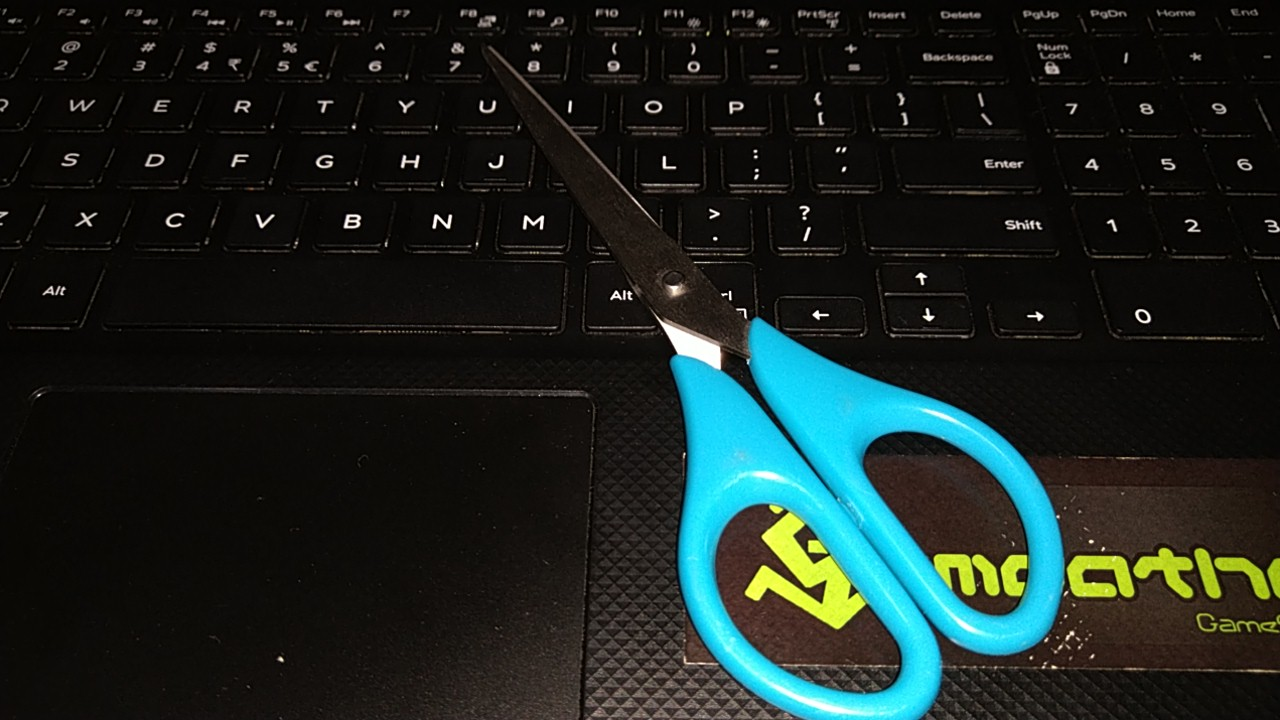scissor: (464, 41, 1081, 719)
